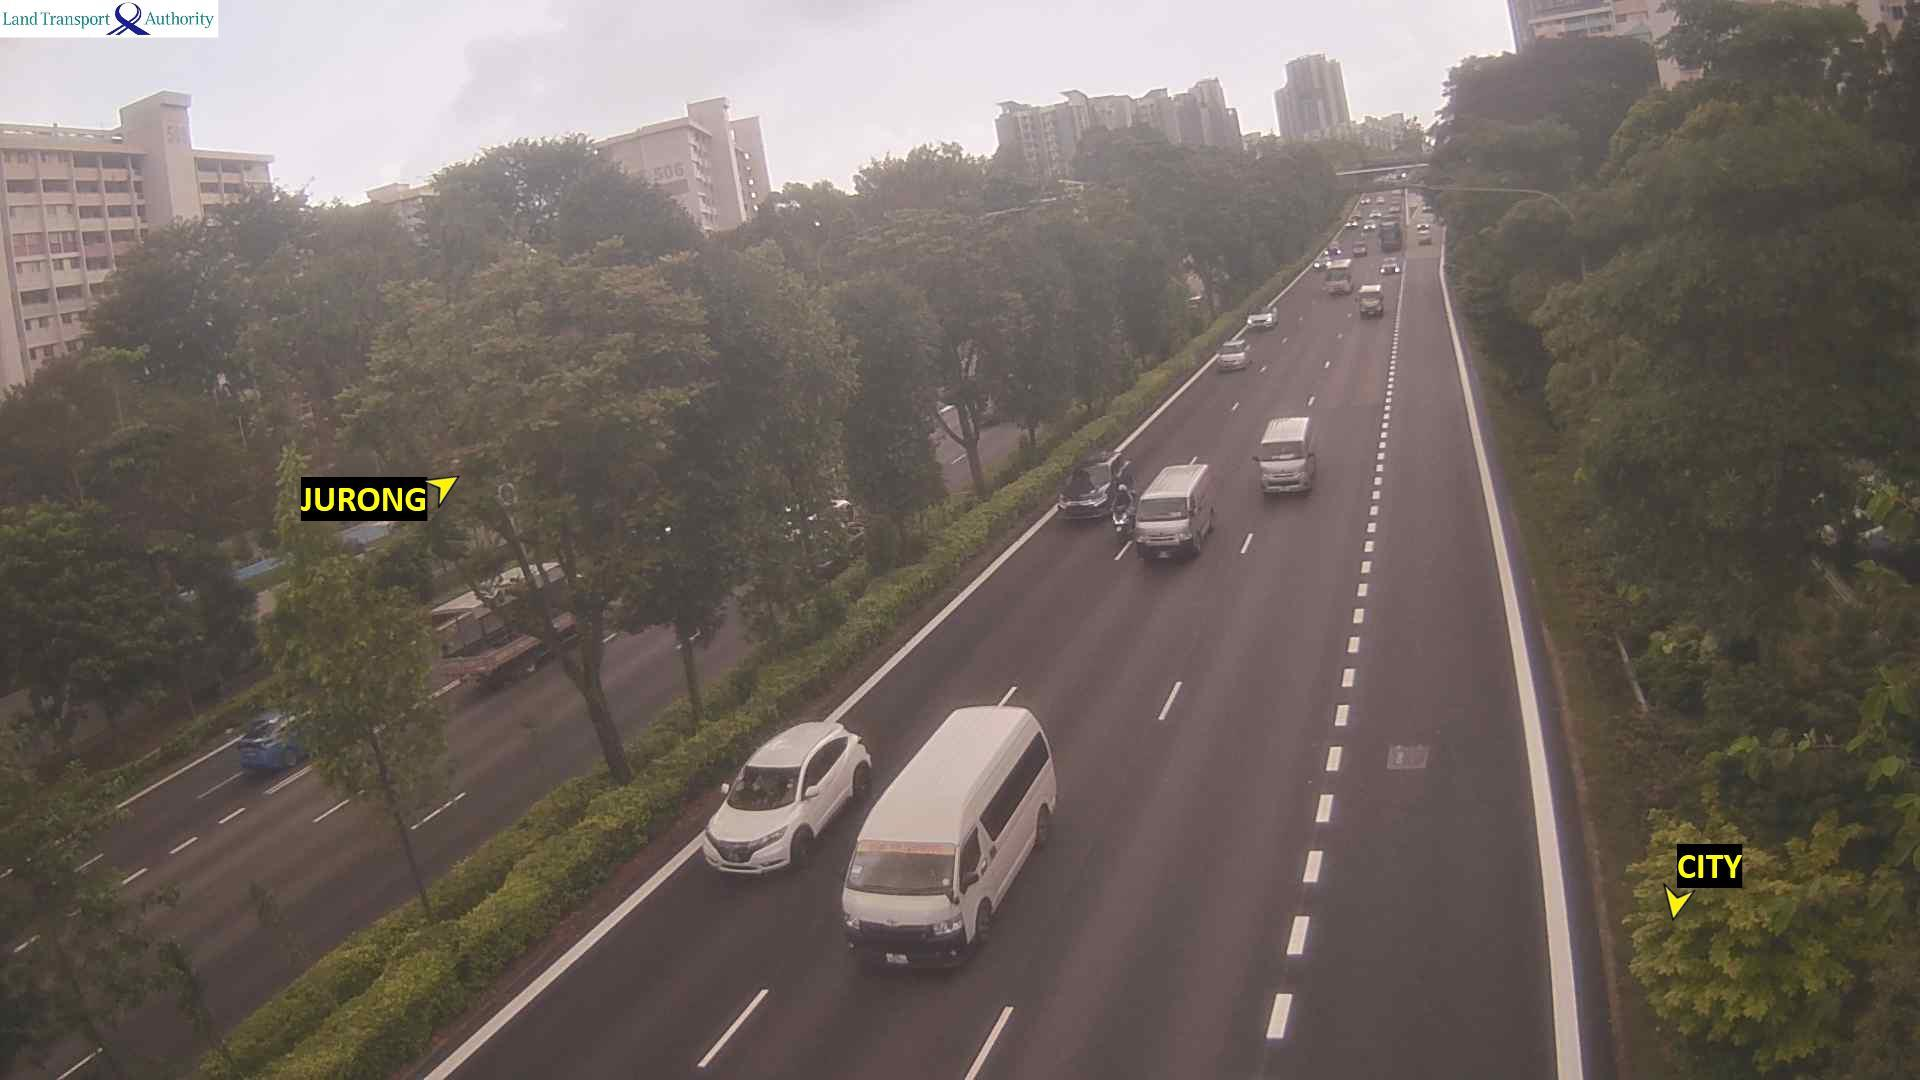incoming: (836, 833, 978, 967), (696, 756, 815, 885), (1131, 492, 1207, 562), (1059, 459, 1116, 524), (1249, 442, 1312, 495), (1211, 343, 1251, 378), (1353, 287, 1390, 322), (1323, 266, 1353, 297), (1244, 307, 1276, 332), (1378, 225, 1406, 255), (1375, 257, 1403, 277), (1109, 504, 1125, 535), (1312, 255, 1335, 269)
